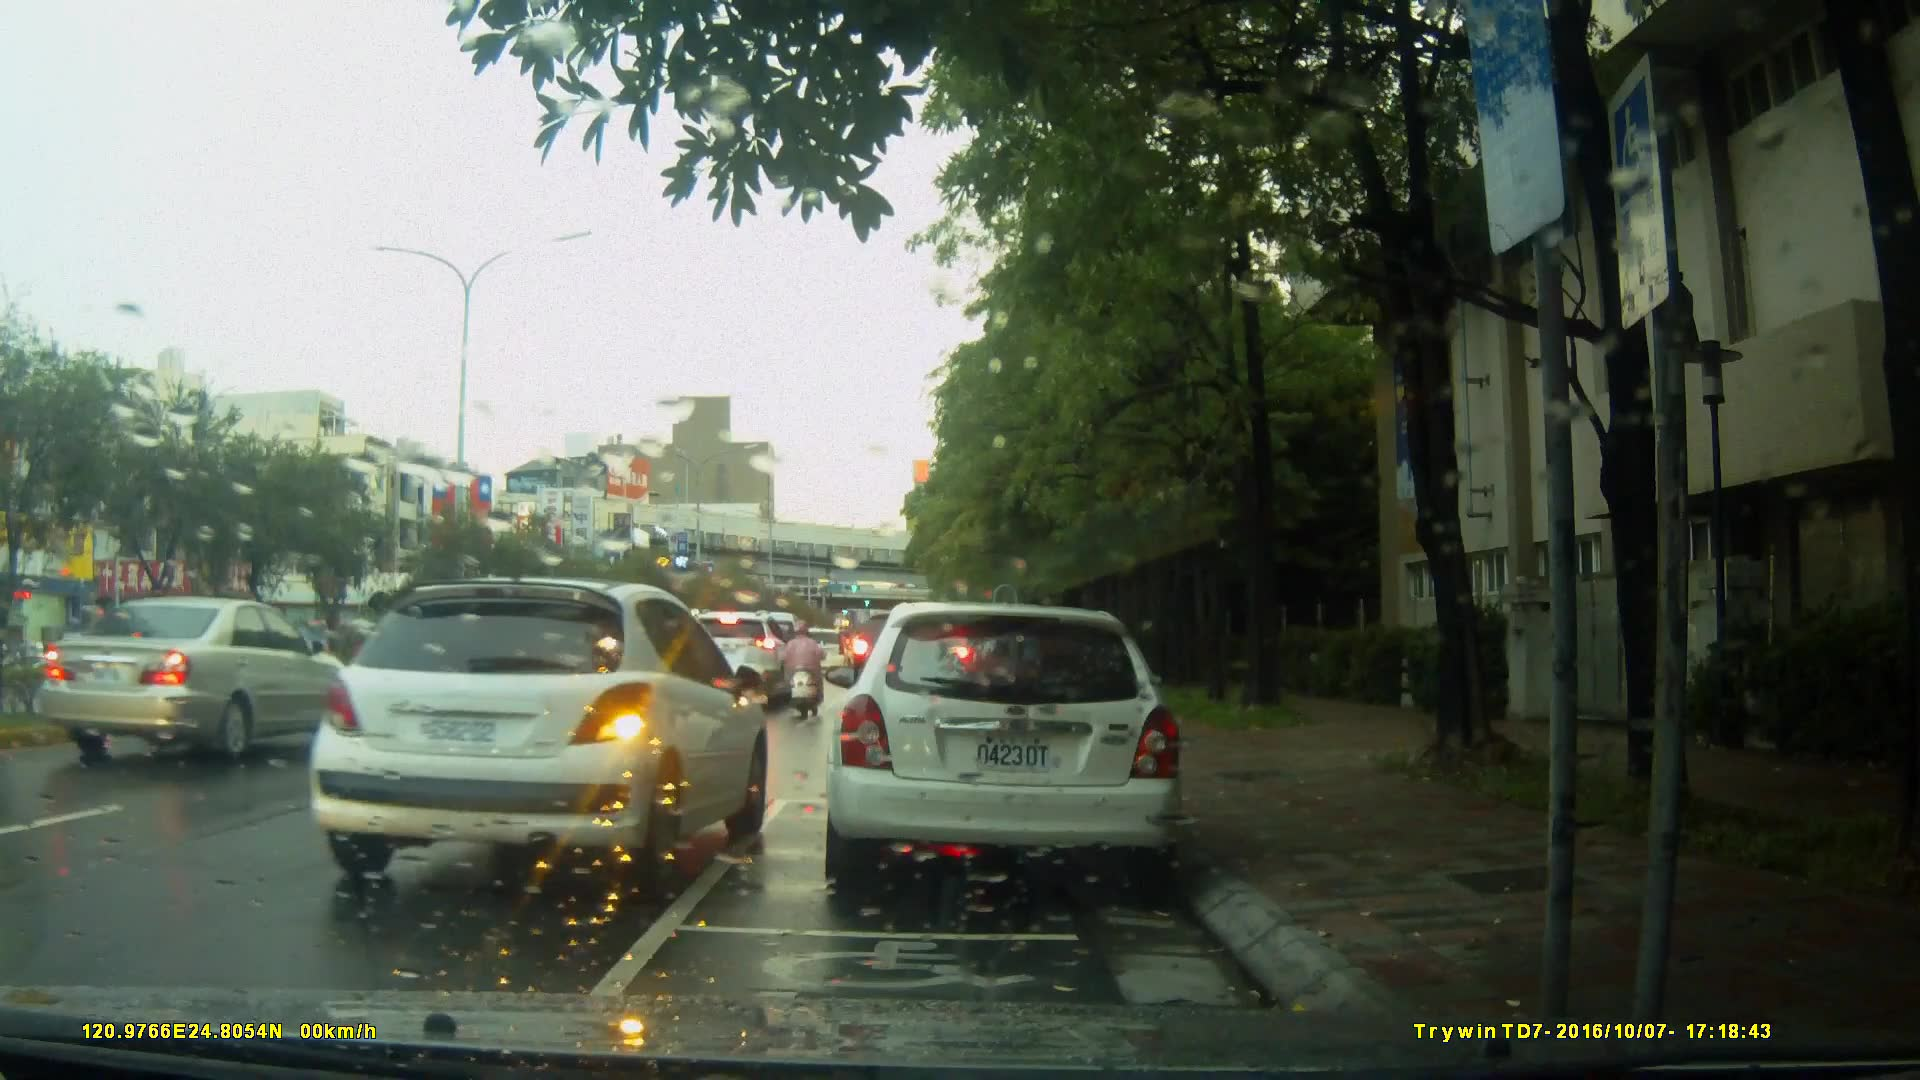rider: (780, 615, 823, 722)
vehicle: (299, 574, 776, 894), (820, 602, 1188, 898), (21, 594, 357, 770), (675, 610, 793, 708)
